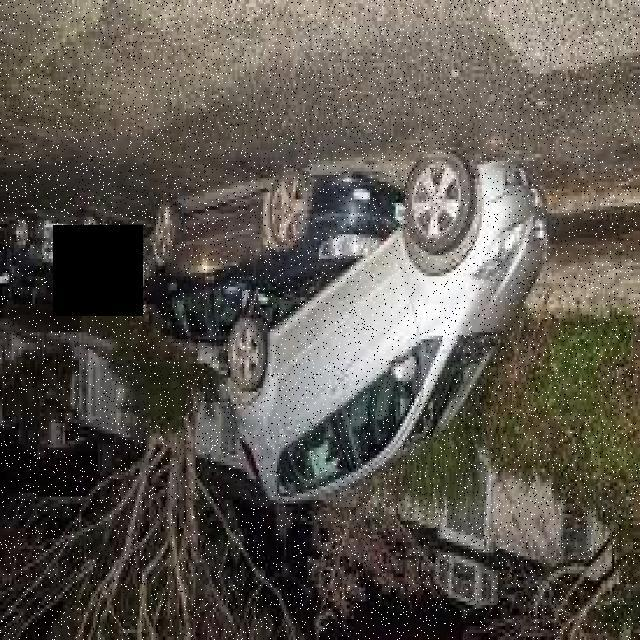severe: (128, 157, 554, 514)
